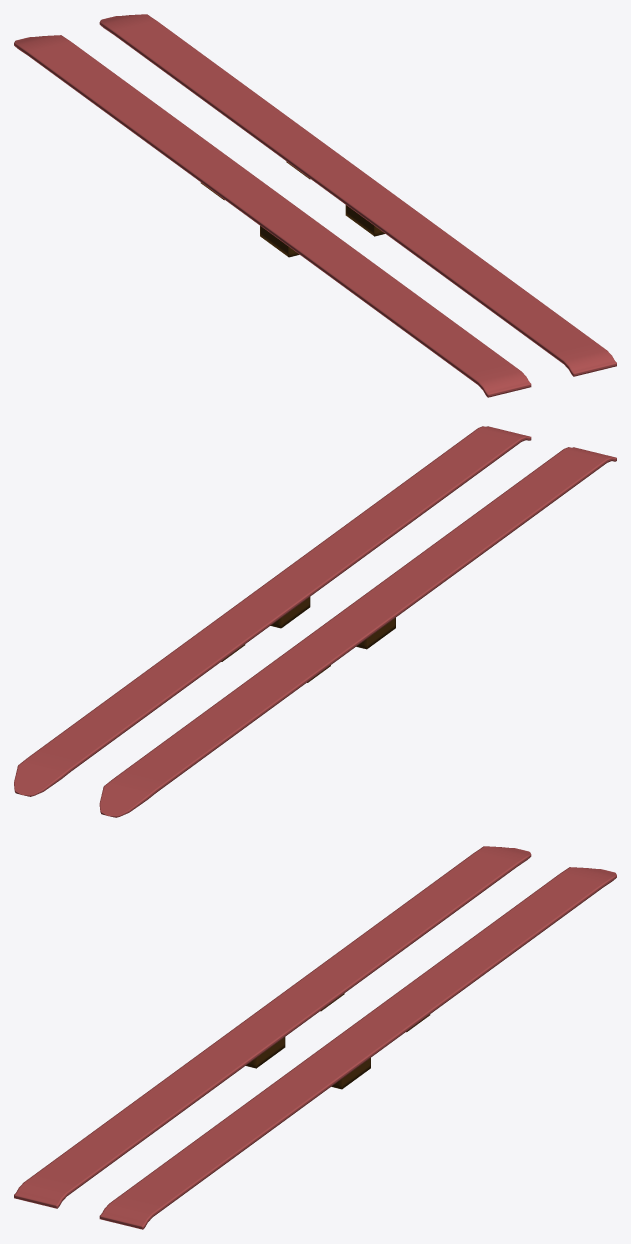
The model's file is ski.fbx.
3 views of the same model, one above another, from view 1: azimuth 30°, elevation 25°; view 2: azimuth 150°, elevation 25°; view 3: azimuth 330°, elevation 25° (orthographic).
Visible parts, largest first — view 1: pCube6, pCube5; view 2: pCube6, pCube5; view 3: pCube5, pCube6.
Part boxes in pixels (x1,y1,x2,y2): pCube6: (99,14,616,376); pCube5: (14,35,531,397); pCube6: (14,426,531,796); pCube5: (99,447,616,817); pCube5: (14,846,531,1208); pCube6: (99,867,616,1229).
Size of the model in its own units: 2.97 by 0.5463 by 19.46.
